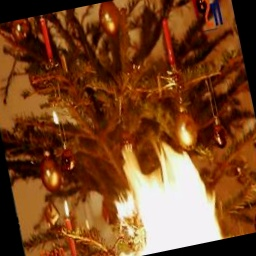fire: (93, 129, 235, 256)
